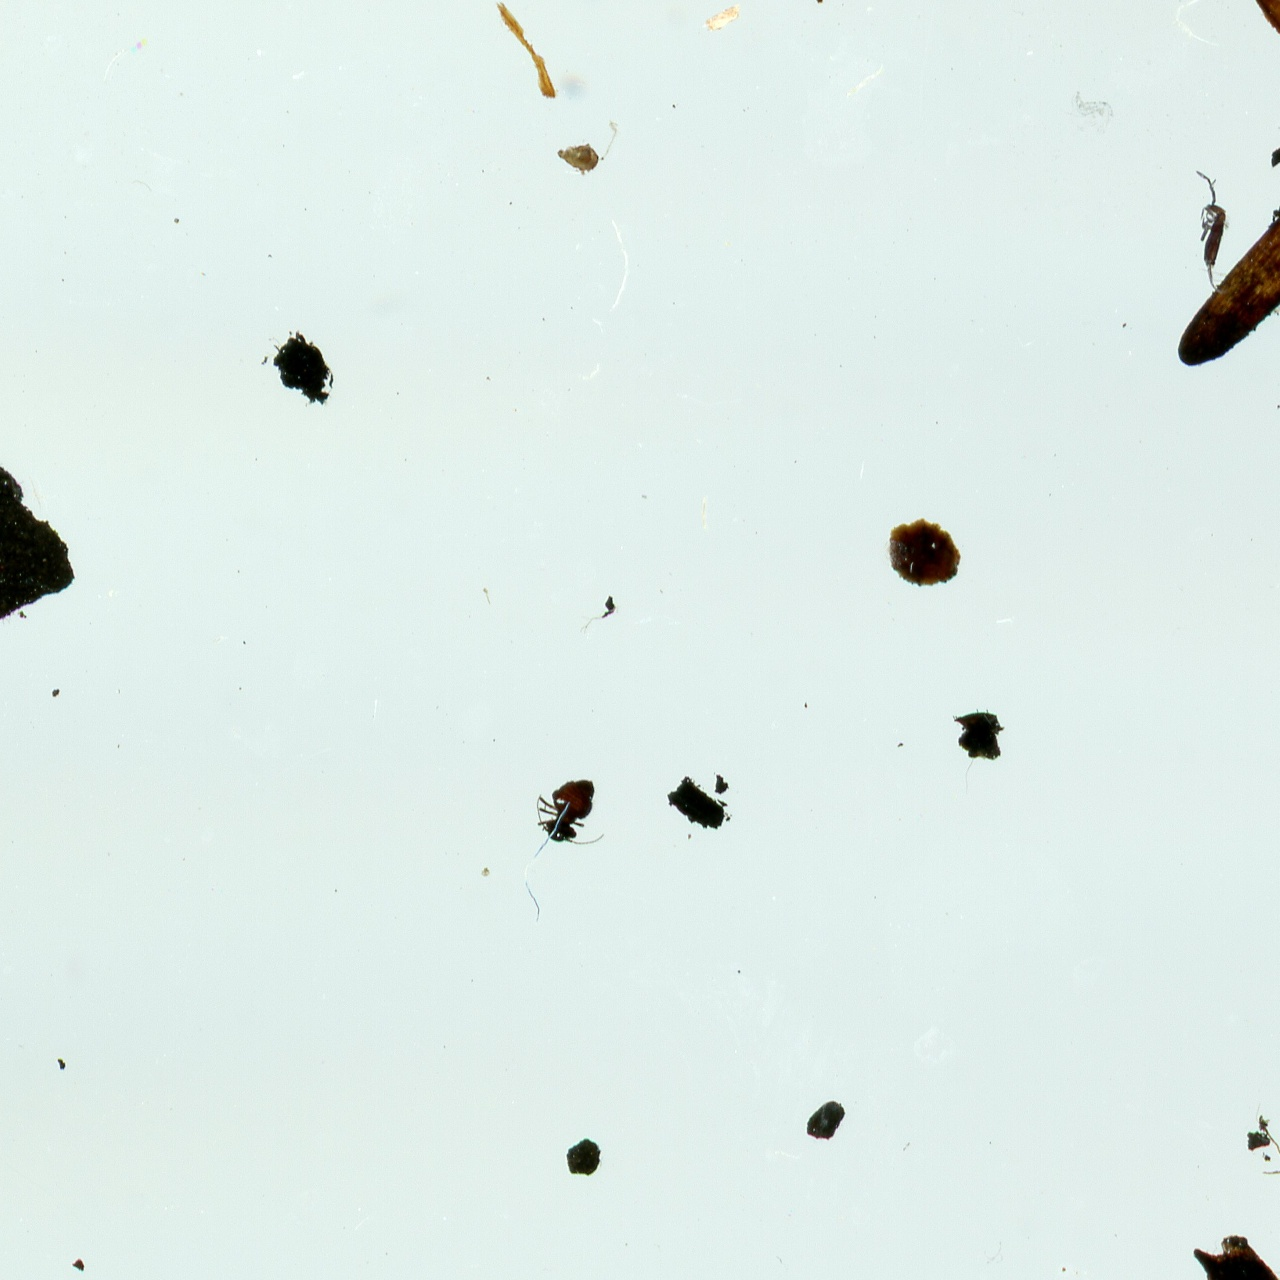arthropod: (1186, 157, 1237, 293), (532, 777, 608, 851)
